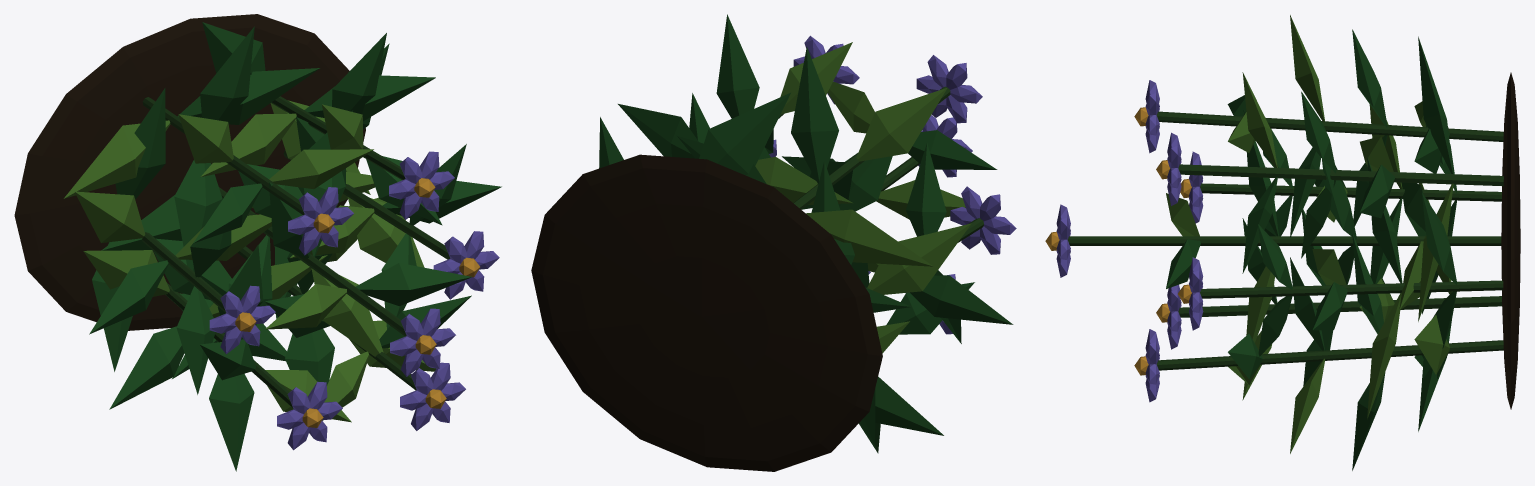
Rendered from Askir_HealingHerbs.obj.
3 views of the same model, side by side, from view 1: azimuth 30°, elevation 25°; view 2: azimuth 150°, elevation 25°; view 3: azimuth 270°, elevation 25° (orthographic). The views are drawn at different scales.
Parts seen in each view (by area): view 1: SM_AskirHealingHerbs; view 2: SM_AskirHealingHerbs; view 3: SM_AskirHealingHerbs.
Boxes of the visible parts, left/top/right/bottom form: SM_AskirHealingHerbs: left=14, top=14, right=501, bottom=471; SM_AskirHealingHerbs: left=531, top=14, right=1016, bottom=471; SM_AskirHealingHerbs: left=1045, top=15, right=1520, bottom=470.
Bounding box in the file's own units: 0.5761 × 0.5685 × 0.593.
